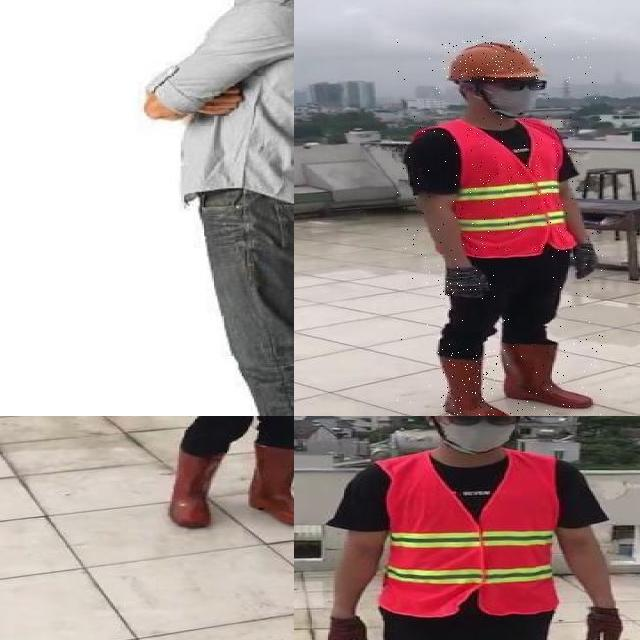boots: (498, 338, 596, 412), (441, 349, 514, 416), (170, 445, 218, 529), (248, 441, 294, 526)
face_mask: (432, 416, 525, 454)
glasses: (439, 416, 529, 433)
hand_glove: (584, 608, 625, 640), (326, 617, 370, 640)
head_helmet: (443, 40, 542, 81)
person: (393, 36, 603, 416), (312, 416, 629, 640), (138, 0, 294, 416), (149, 416, 294, 539)
vest: (383, 453, 556, 617), (404, 117, 578, 260)
